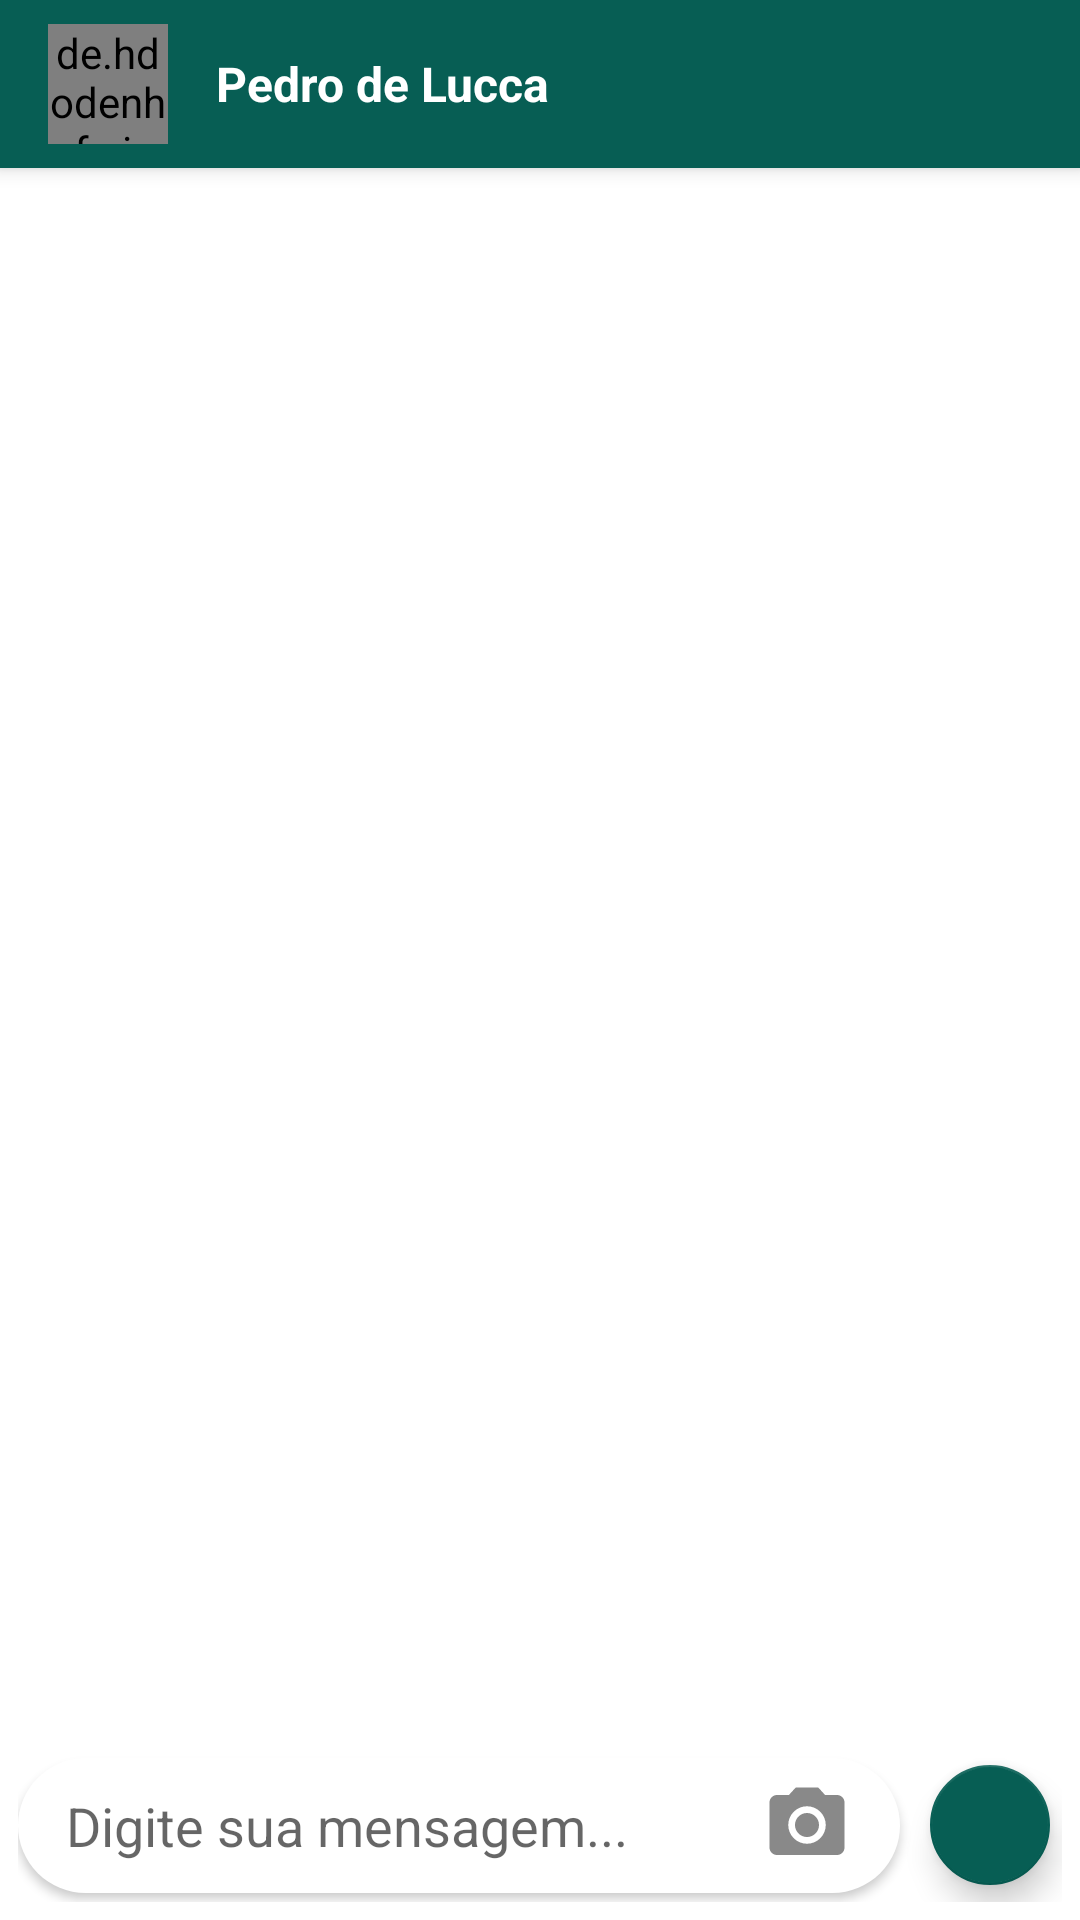

Where icons sit on this 1080px x 1920px app screen, as (left=x1, top=y1, right=x2, bottom=y2):
camera: (left=769, top=1787, right=845, bottom=1855)
